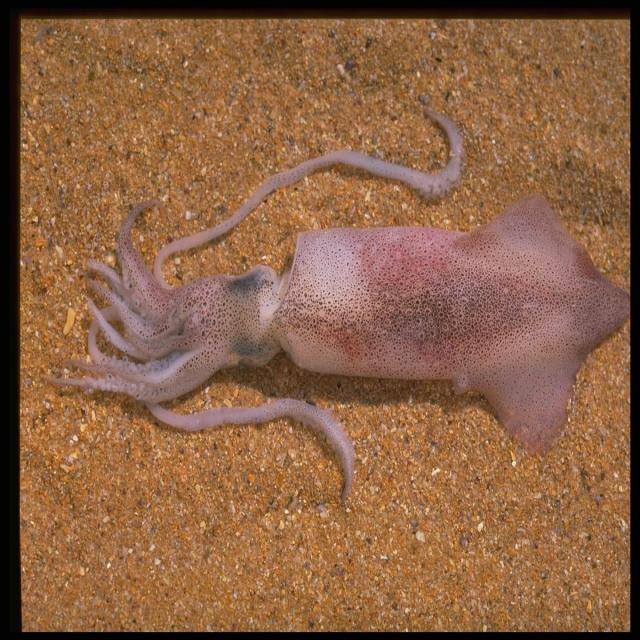squid: (50, 111, 630, 490)
